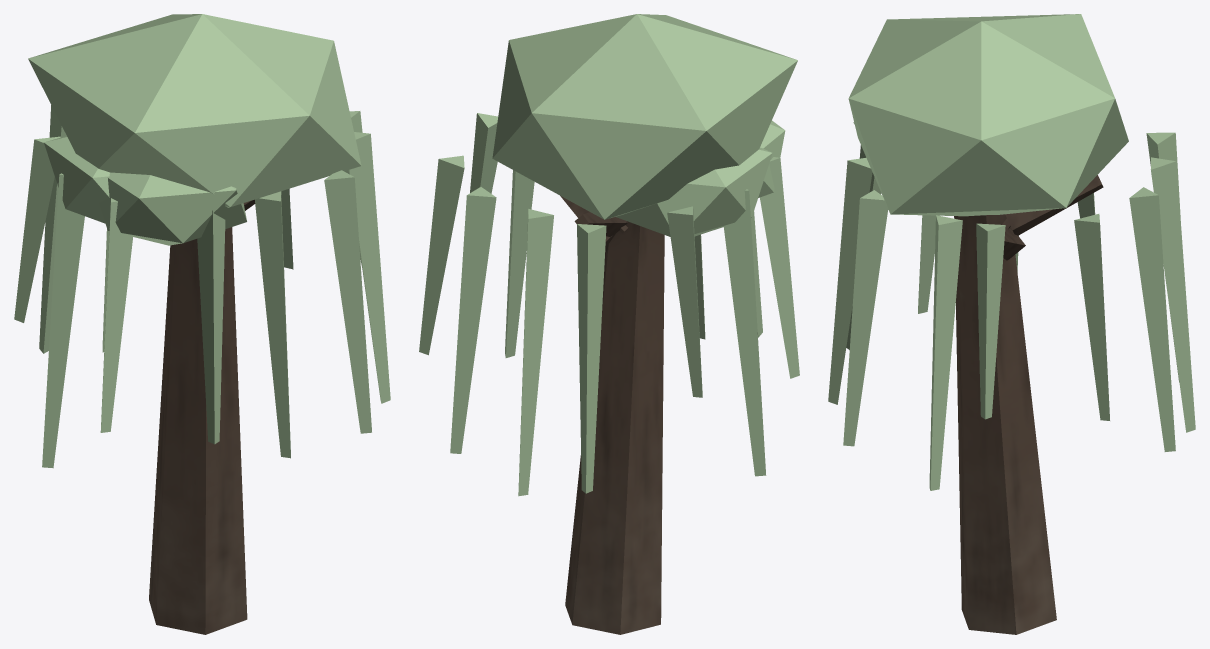
File: arv_salgueiro_4.glb
3 renders of one model, left to right at view 1: azimuth 30°, elevation 25°; view 2: azimuth 150°, elevation 25°; view 3: azimuth 270°, elevation 25°, orthographic. The views are drawn at different scales.
Visible parts, largest first — view 1: arv_salgueiro_4; view 2: arv_salgueiro_4; view 3: arv_salgueiro_4.
Part boxes in pixels (bbox=[...]): arv_salgueiro_4: bbox=[14, 14, 390, 634]; arv_salgueiro_4: bbox=[419, 14, 799, 634]; arv_salgueiro_4: bbox=[828, 14, 1195, 634].
Size of the model in its own units: 0.8466 by 1.52 by 0.8578.
Materials: 2 (1 with a texture image).
